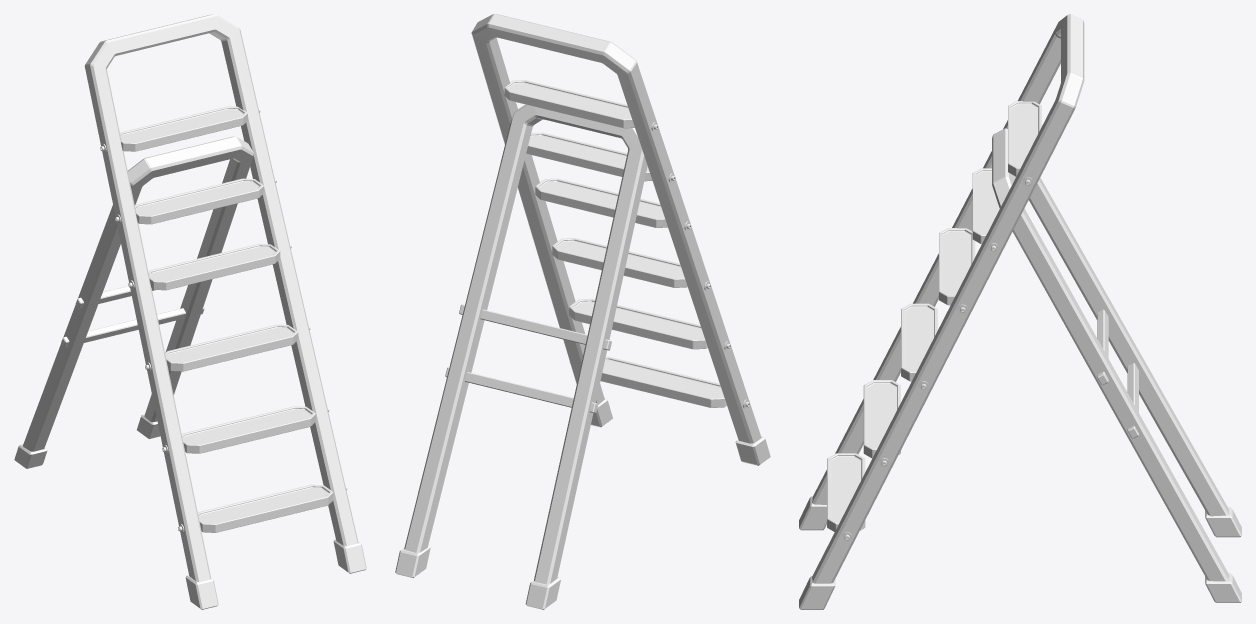
File: KB3D_FTW_PropFoldingLadder_A_grp.glb
3 views of the same model, side by side, from view 1: azimuth 30°, elevation 25°; view 2: azimuth 150°, elevation 25°; view 3: azimuth 270°, elevation 25° (orthographic). The views are drawn at different scales.
Visible parts, largest first — view 1: KB3D_FTW_PropFoldingLadder_A_Main; view 2: KB3D_FTW_PropFoldingLadder_A_Main; view 3: KB3D_FTW_PropFoldingLadder_A_Main.
Part boxes in pixels (x1,y1,x2,y2): KB3D_FTW_PropFoldingLadder_A_Main: (14,14,366,609); KB3D_FTW_PropFoldingLadder_A_Main: (395,14,770,609); KB3D_FTW_PropFoldingLadder_A_Main: (799,14,1241,609).
Size of the model in its own units: 0.7232 by 1.96 by 1.5.
Materials: 5 (1 with a texture image).
